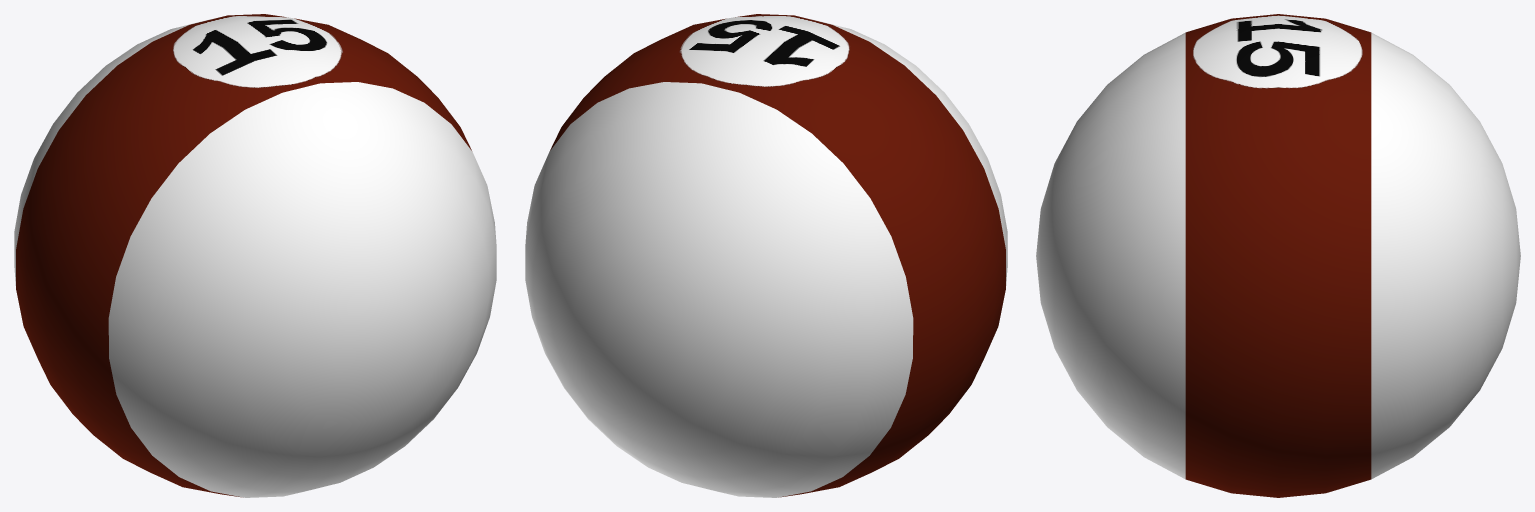
Rendered from 15Ball.glb.
3 renders of one model, left to right at view 1: azimuth 30°, elevation 25°; view 2: azimuth 150°, elevation 25°; view 3: azimuth 270°, elevation 25°, orthographic.
Parts seen in each view (by area): view 1: SphereStriped; view 2: SphereStriped; view 3: SphereStriped.
Part boxes in pixels (x1,y1,x2,y2): SphereStriped: (14, 14, 496, 497); SphereStriped: (525, 14, 1007, 497); SphereStriped: (1036, 14, 1520, 497).
Size of the model in its own units: 0.1991 by 0.1991 by 0.2.
Materials: 1 (1 with a texture image).
